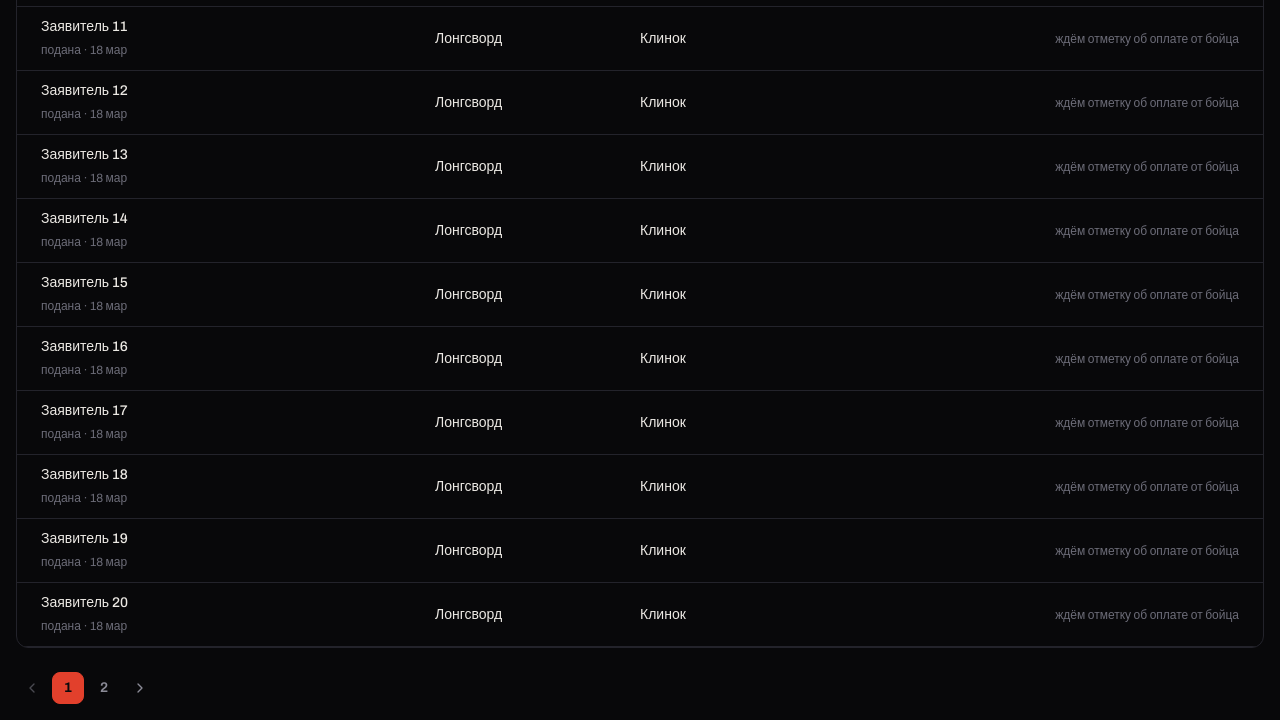
Test: ApplicationsScreen › resets pagination to page 1 when a filter changes (AC-15)
(page scrolled)
Click the button "2" at (104, 688), box [88,672,120,704]
(page scrolled)
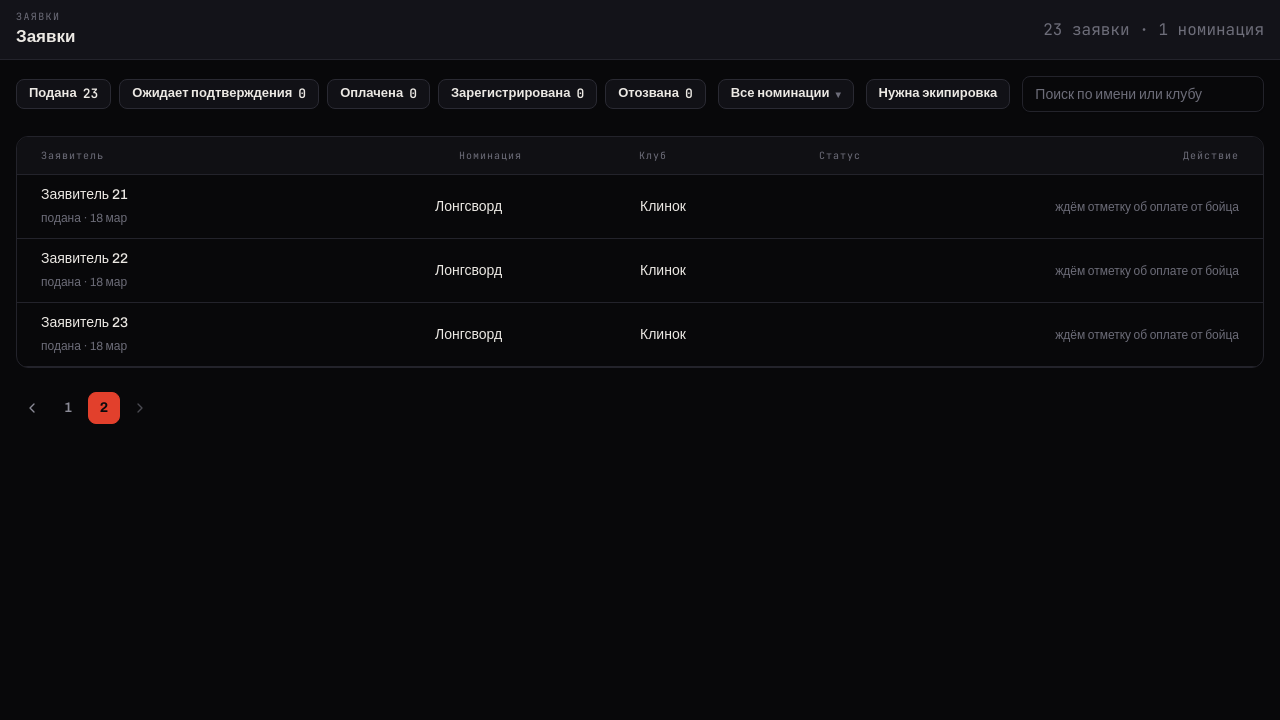
Click the button "Подана 23" at (64, 94), box [16,79,111,109]
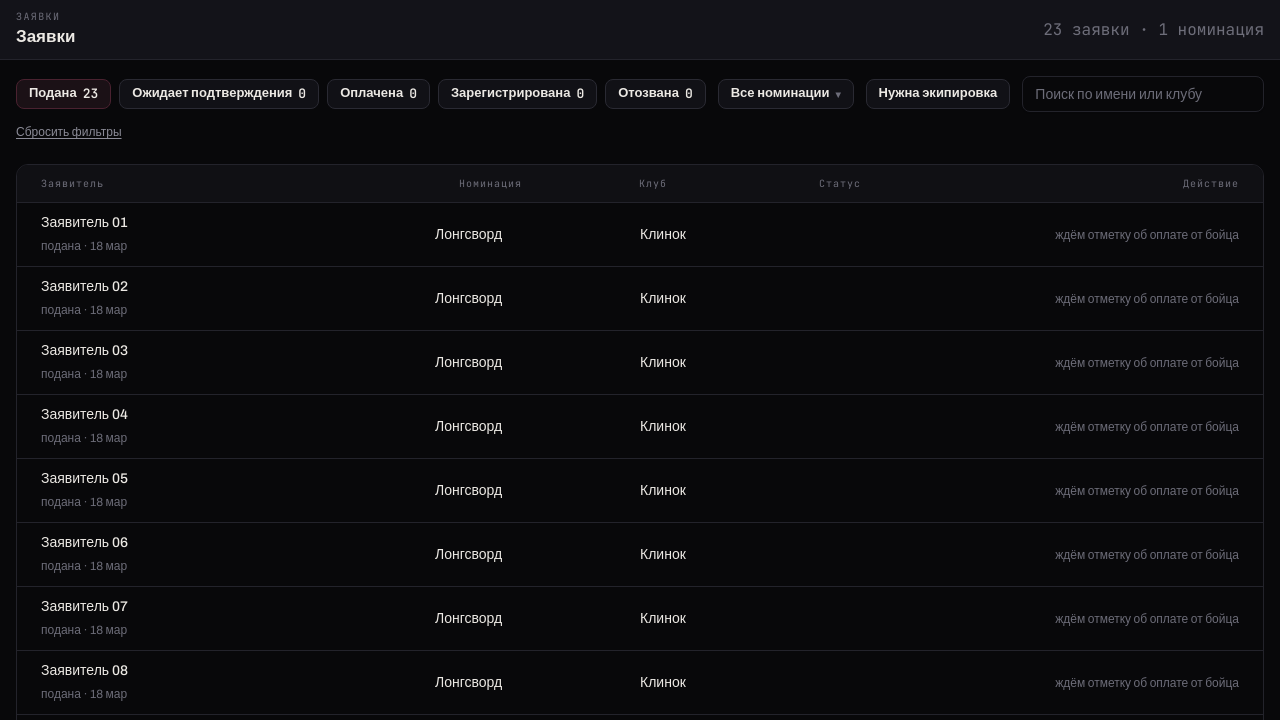
Expected: the text "Заявитель 01" is shown, [41,214,128,230]
